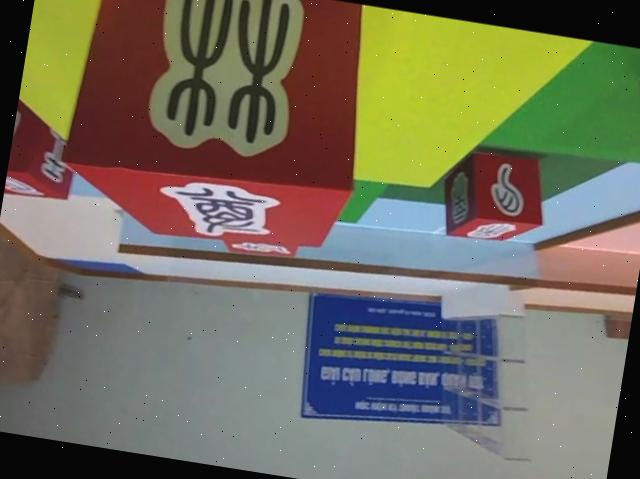R2 Fake: (47, 0, 385, 268), (434, 138, 556, 253), (3, 95, 85, 207)
